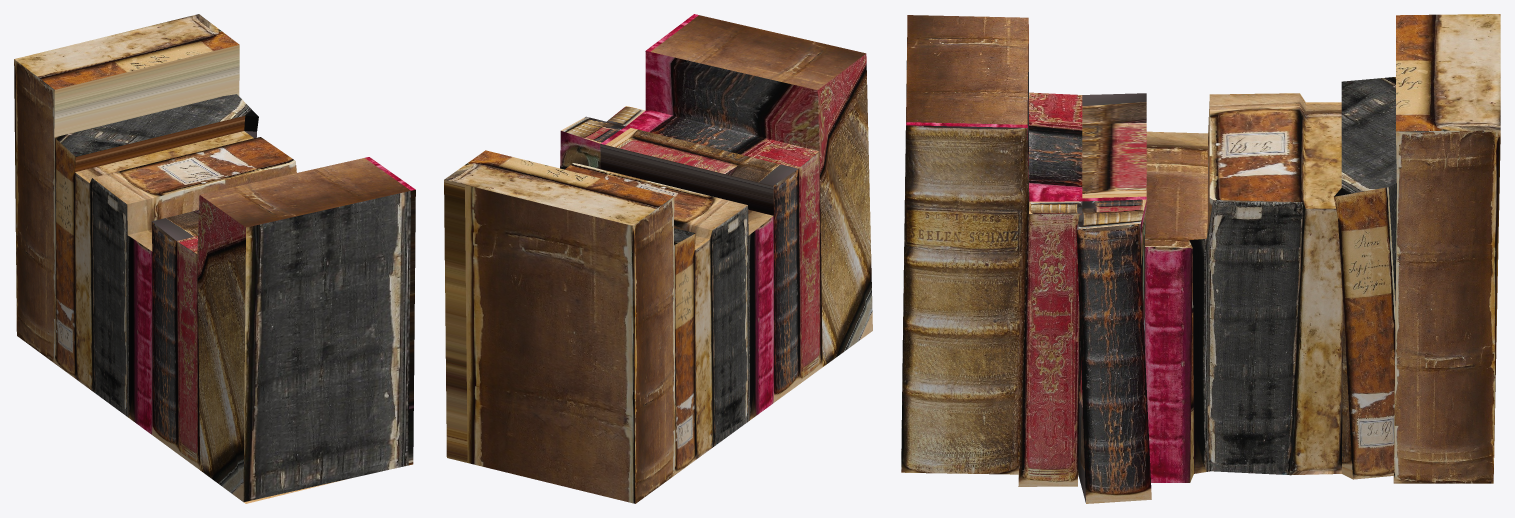
The model's file is Props_BookSet_2.fbx.
3 renders of one model, left to right at view 1: azimuth 30°, elevation 25°; view 2: azimuth 150°, elevation 25°; view 3: azimuth 270°, elevation 25°, orthographic. The views are drawn at different scales.
Parts seen in each view (by area): view 1: tx_books_2; view 2: tx_books_2; view 3: tx_books_2.
Part boxes in pixels (bbox=[...]): tx_books_2: bbox=[14, 14, 415, 503]; tx_books_2: bbox=[444, 14, 872, 503]; tx_books_2: bbox=[901, 14, 1500, 503].
Size of the model in its own units: 71.13 by 87.01 by 133.
